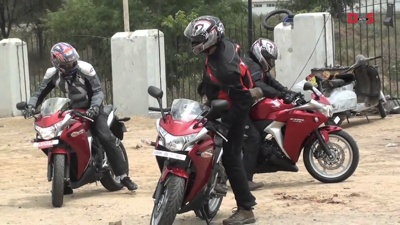helmet: (183, 14, 226, 55), (49, 41, 82, 79), (250, 35, 280, 74)
